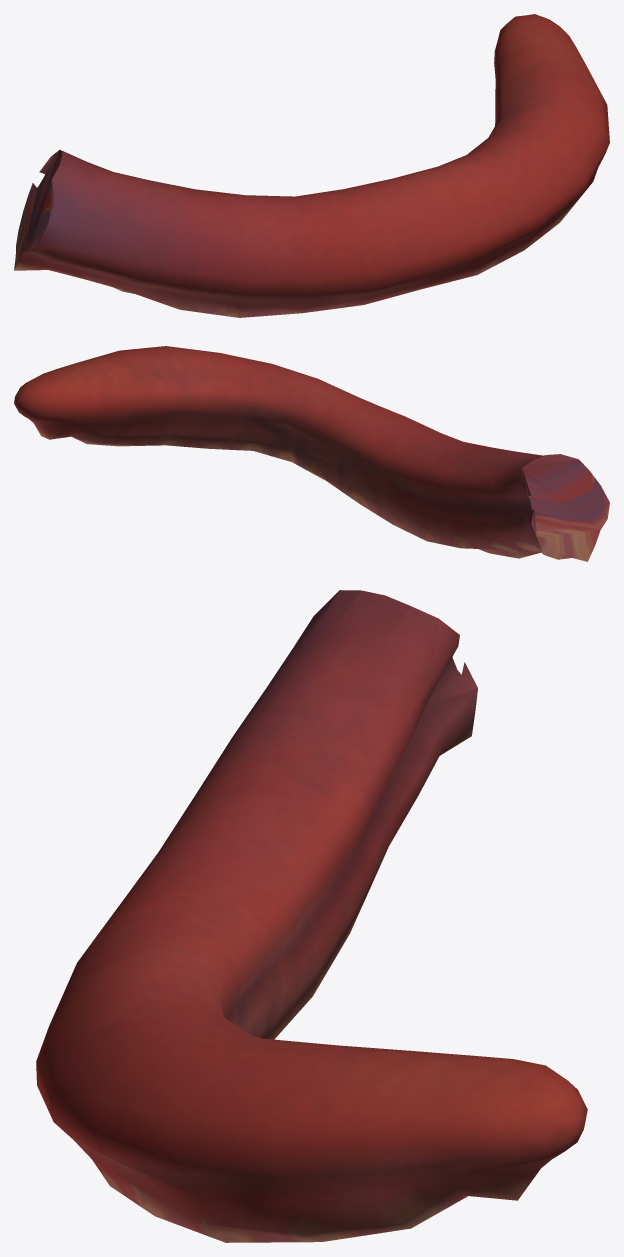
File: tentaculo7.obj
The picture shows the model from 3 angles, top to bottom: view 1: azimuth 30°, elevation 25°; view 2: azimuth 150°, elevation 25°; view 3: azimuth 270°, elevation 25°; orthographic projection. The views are drawn at different scales.
Visible parts, largest first — view 1: tentacle7; view 2: tentacle7; view 3: tentacle7.
Part boxes in pixels (x1,y1,x2,y2): tentacle7: (14, 14, 609, 317); tentacle7: (14, 346, 609, 561); tentacle7: (36, 590, 587, 1242).
Size of the model in its own units: 382 by 98.75 by 170.
2 materials, 2 textured.
